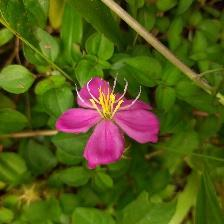malabar melastome: (56, 69, 162, 169)
